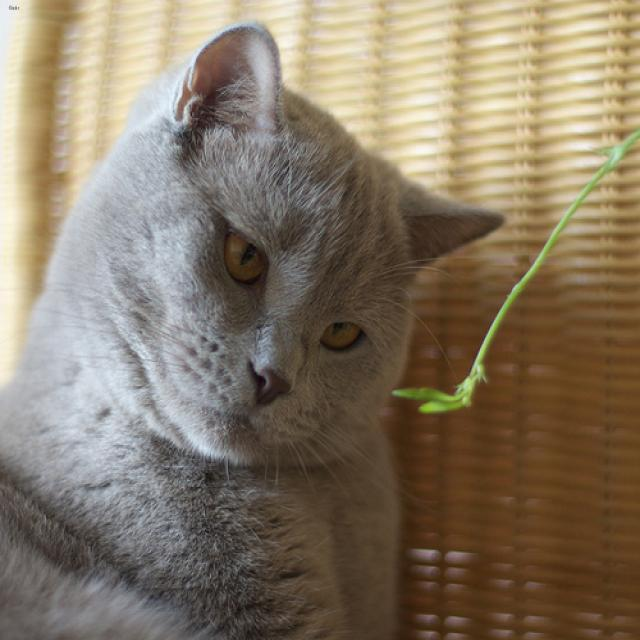British_Shorthair: (79, 16, 521, 483)
